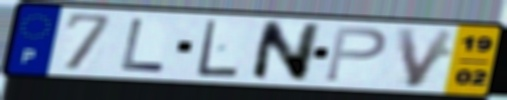7: (63, 11, 115, 73)
L: (117, 16, 167, 74), (194, 18, 241, 79)
N: (247, 19, 324, 83)
P: (322, 24, 390, 84)
V: (393, 26, 460, 89)
